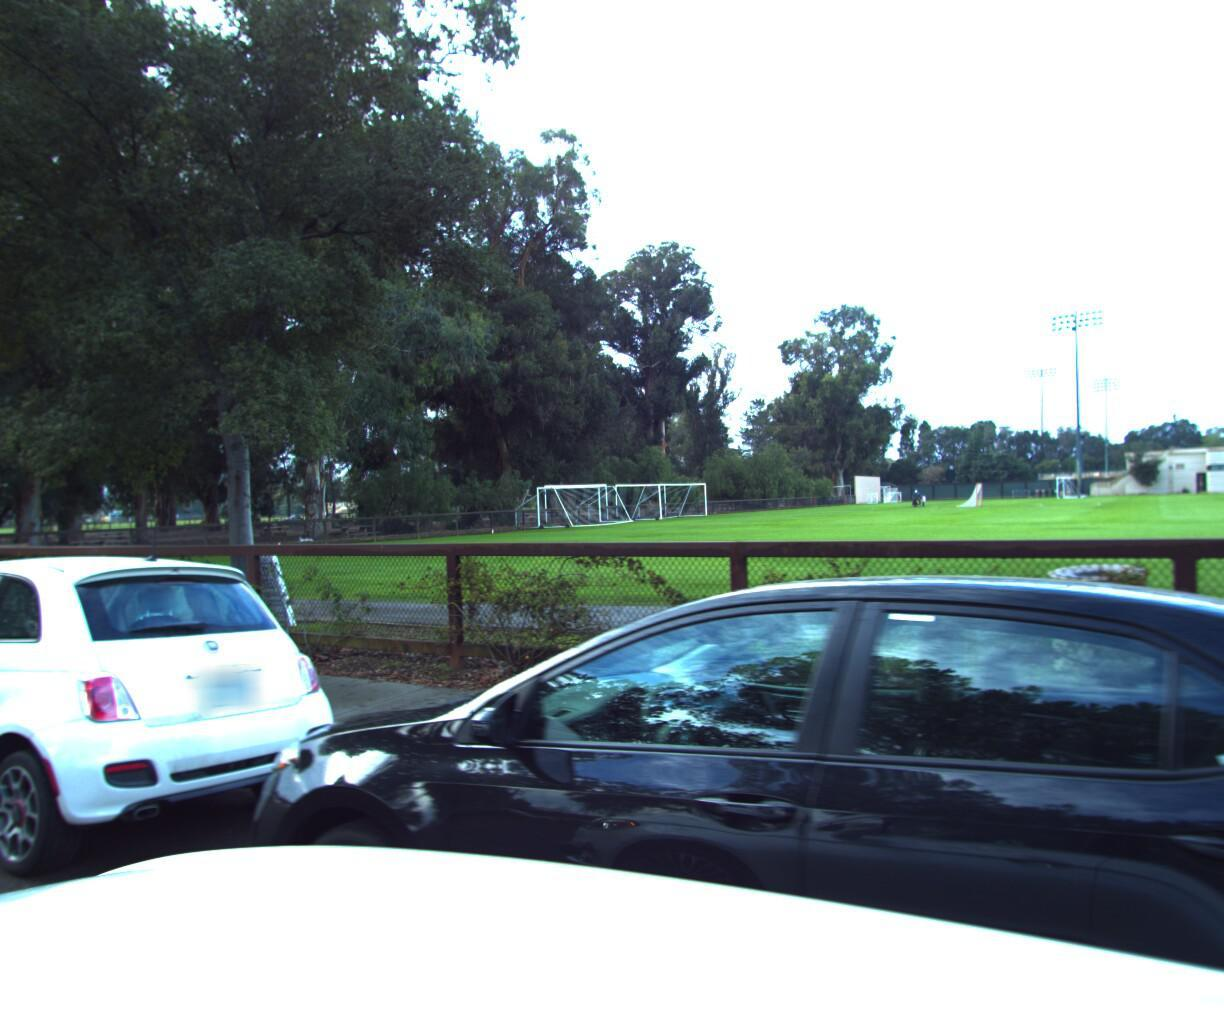car: (119, 550, 1224, 1024), (0, 542, 377, 926), (0, 554, 36, 784)
